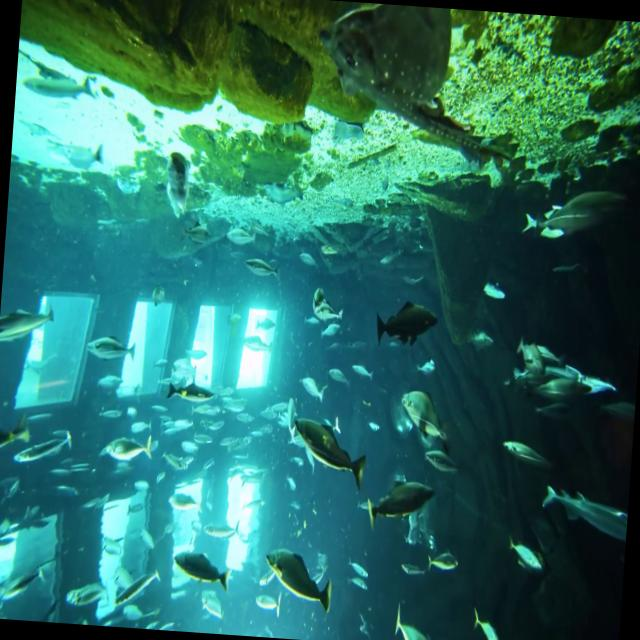fish: (260, 542, 333, 621), (288, 415, 368, 487), (539, 481, 628, 544), (372, 294, 442, 350), (365, 475, 436, 529), (554, 361, 620, 410), (399, 387, 451, 445), (172, 548, 234, 590), (0, 304, 56, 343), (501, 436, 553, 476), (84, 334, 138, 368), (102, 431, 152, 462), (164, 378, 219, 406), (506, 538, 544, 570), (470, 606, 502, 640)
